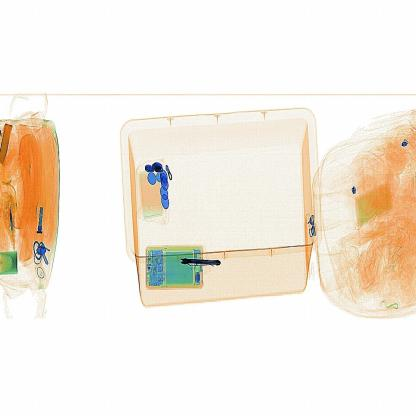knife: (180, 255, 223, 272)
